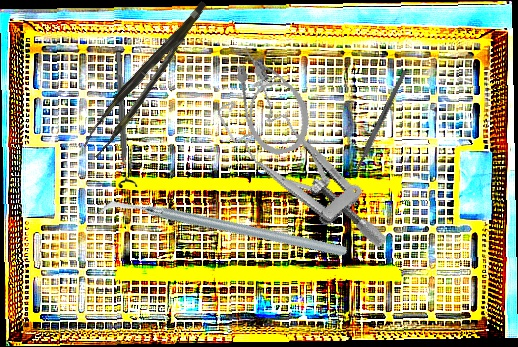Cannula: (225, 34, 318, 162)
Chopper: (92, 114, 351, 346)
Fixation Ring: (107, 50, 139, 189)
Scalpel Handle: (353, 69, 409, 172)
Speculum: (211, 62, 392, 285)
Tissue Forceps: (74, 0, 224, 159)
